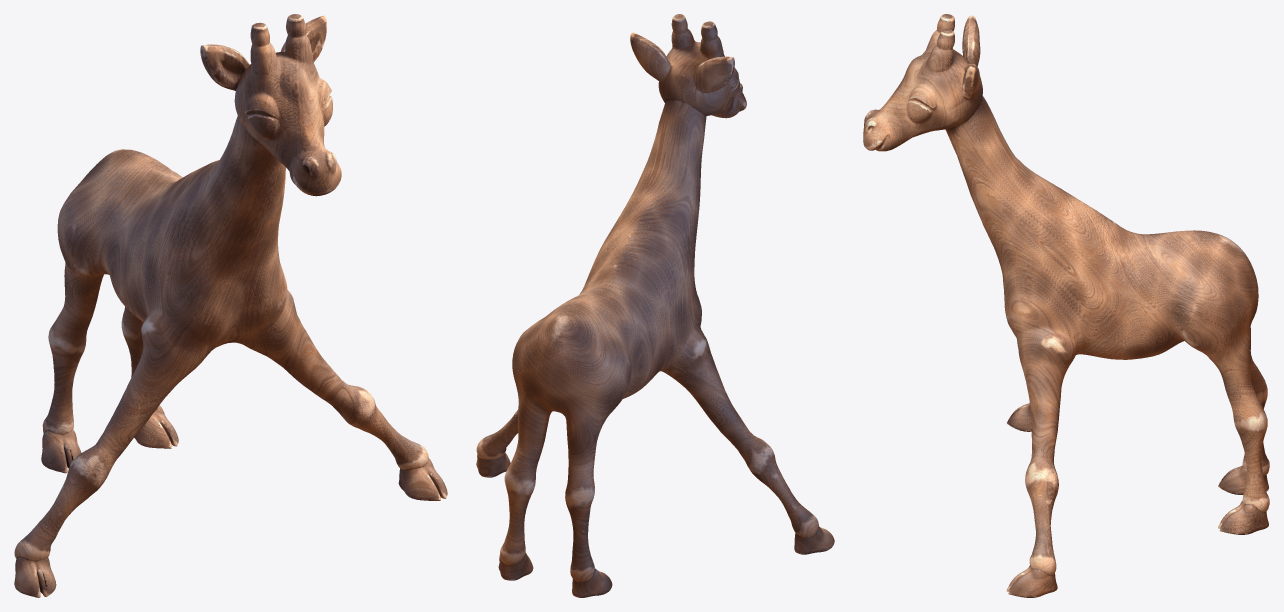
Rendered from giraf.glb.
3 renders of one model, left to right at view 1: azimuth 30°, elevation 25°; view 2: azimuth 150°, elevation 25°; view 3: azimuth 270°, elevation 25°, orthographic. The views are drawn at different scales.
Parts seen in each view (by area): view 1: girafe; view 2: girafe; view 3: girafe.
Part boxes in pixels (x1,y1,x2,y2): girafe: (14, 14, 447, 597); girafe: (476, 14, 834, 597); girafe: (863, 14, 1269, 597).
Bounding box in the file's own units: 3.04 × 3.79 × 2.88.
Materials: 1 (1 with a texture image).
